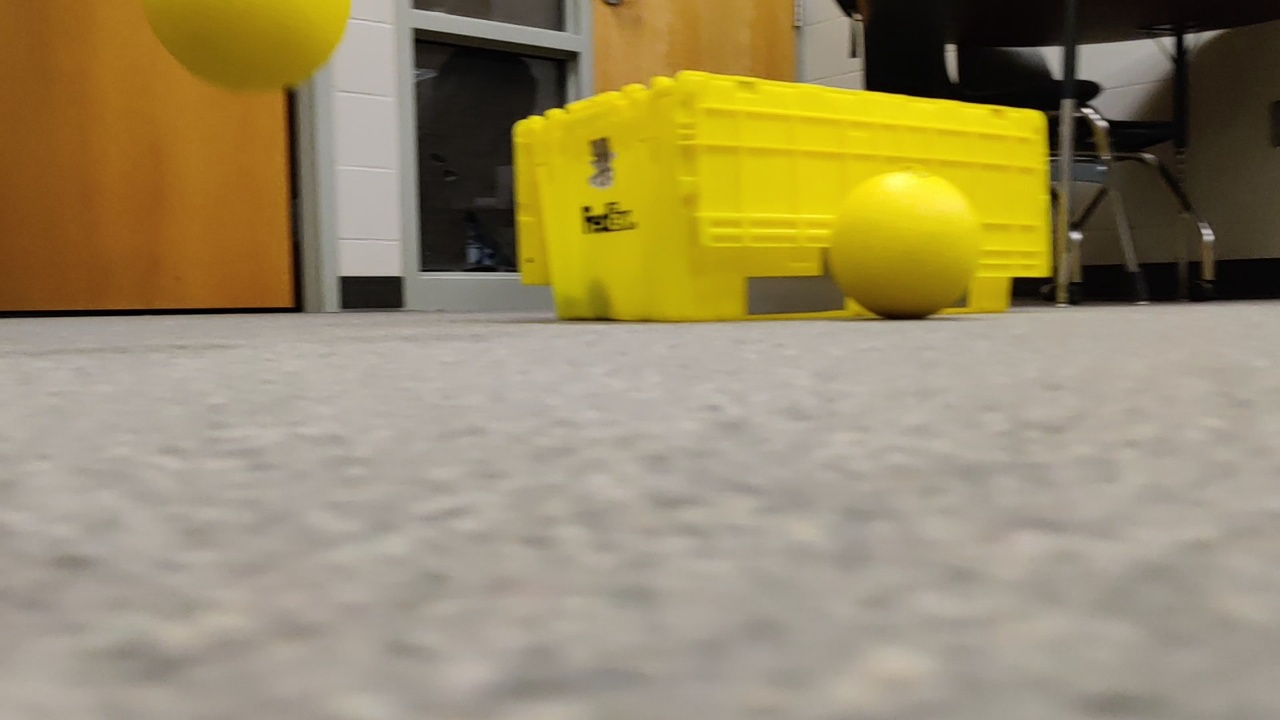Ball: (134, 1, 359, 109), (824, 168, 974, 319)
